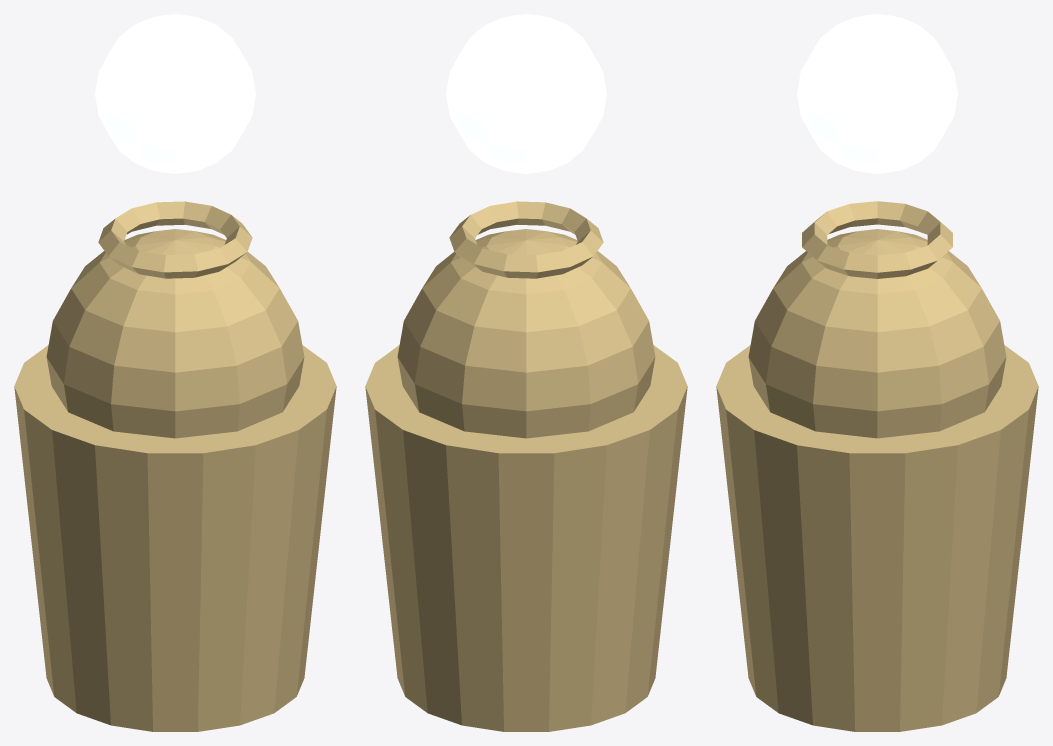
File: TuningBell_High.fbx
3 views of the same model, side by side, from view 1: azimuth 30°, elevation 25°; view 2: azimuth 150°, elevation 25°; view 3: azimuth 270°, elevation 25° (orthographic).
Visible parts, largest first — view 1: TuningBell_High; view 2: TuningBell_High; view 3: TuningBell_High.
Part boxes in pixels (x1=…): TuningBell_High: x1=14, y1=14, x2=336, y2=731; TuningBell_High: x1=365, y1=14, x2=687, y2=731; TuningBell_High: x1=716, y1=14, x2=1038, y2=731.
Bounding box in the file's own units: 15.76 × 36 × 16.
